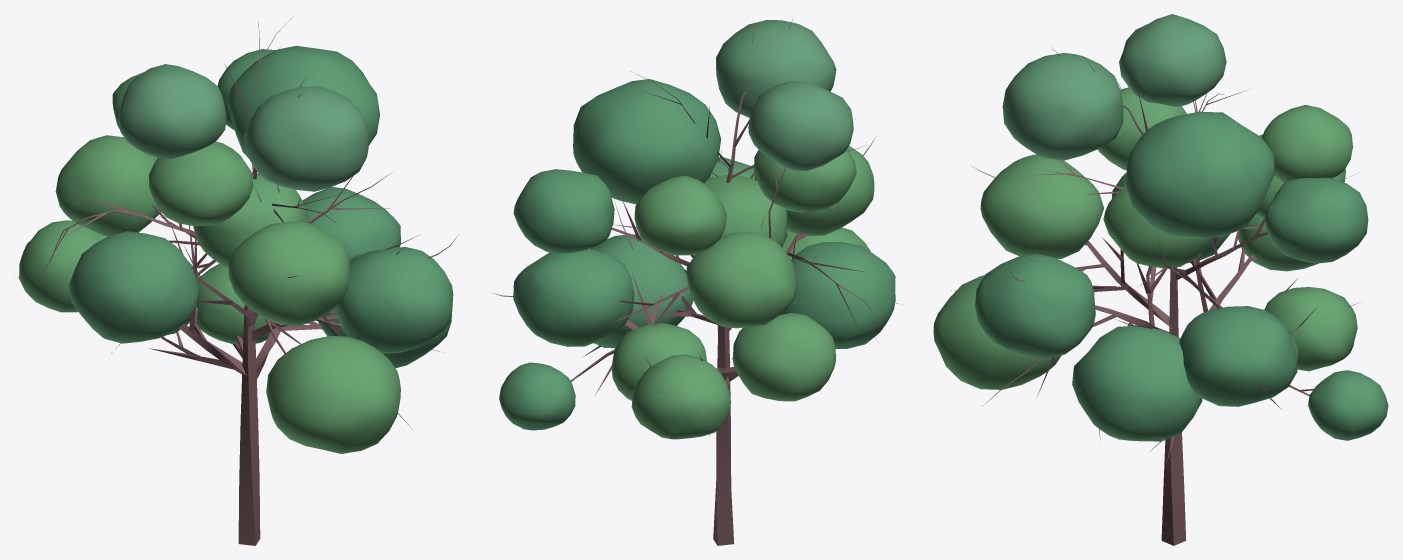
File: hybrid_oak.glb
3 views of the same model, side by side, from view 1: azimuth 30°, elevation 25°; view 2: azimuth 150°, elevation 25°; view 3: azimuth 270°, elevation 25° (orthographic). The views are drawn at different scales.
Parts seen in each view (by area): view 1: hybrid_oak; view 2: hybrid_oak; view 3: hybrid_oak.
Boxes of the visible parts, <box> form: hybrid_oak: <box>18,16,458,545</box>; hybrid_oak: <box>493,19,902,545</box>; hybrid_oak: <box>933,14,1388,545</box>.
Size of the model in its own units: 12.84 by 16 by 13.42.
